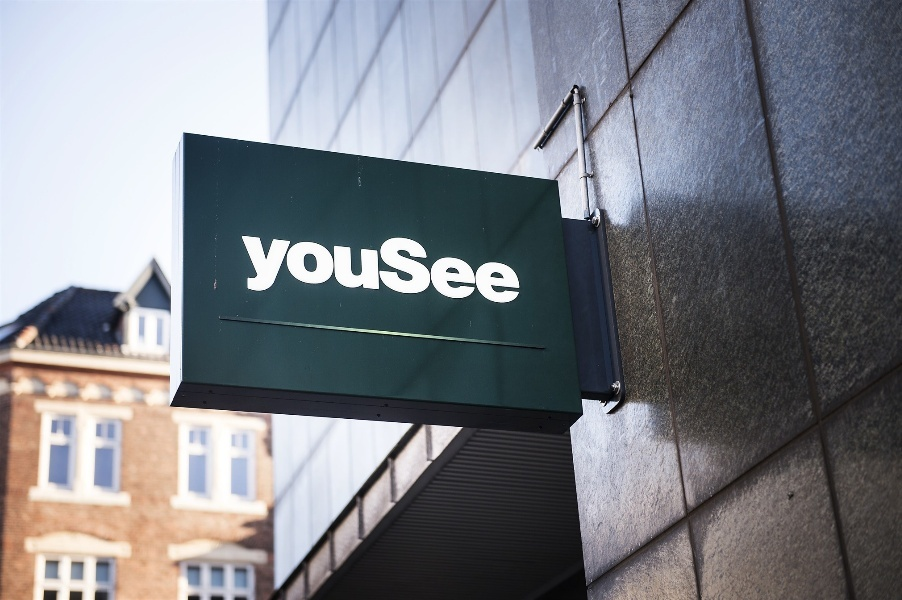text: (241, 226, 256, 305), (257, 226, 272, 305), (273, 226, 288, 305), (289, 226, 304, 305), (305, 226, 320, 305), (321, 226, 336, 305), (337, 226, 352, 305), (353, 226, 368, 305), (369, 226, 384, 305), (385, 226, 400, 305), (401, 226, 416, 305), (417, 226, 432, 305), (433, 226, 448, 305), (449, 226, 464, 305), (465, 226, 480, 305), (481, 226, 496, 305), (497, 226, 512, 305), (513, 226, 522, 305)
